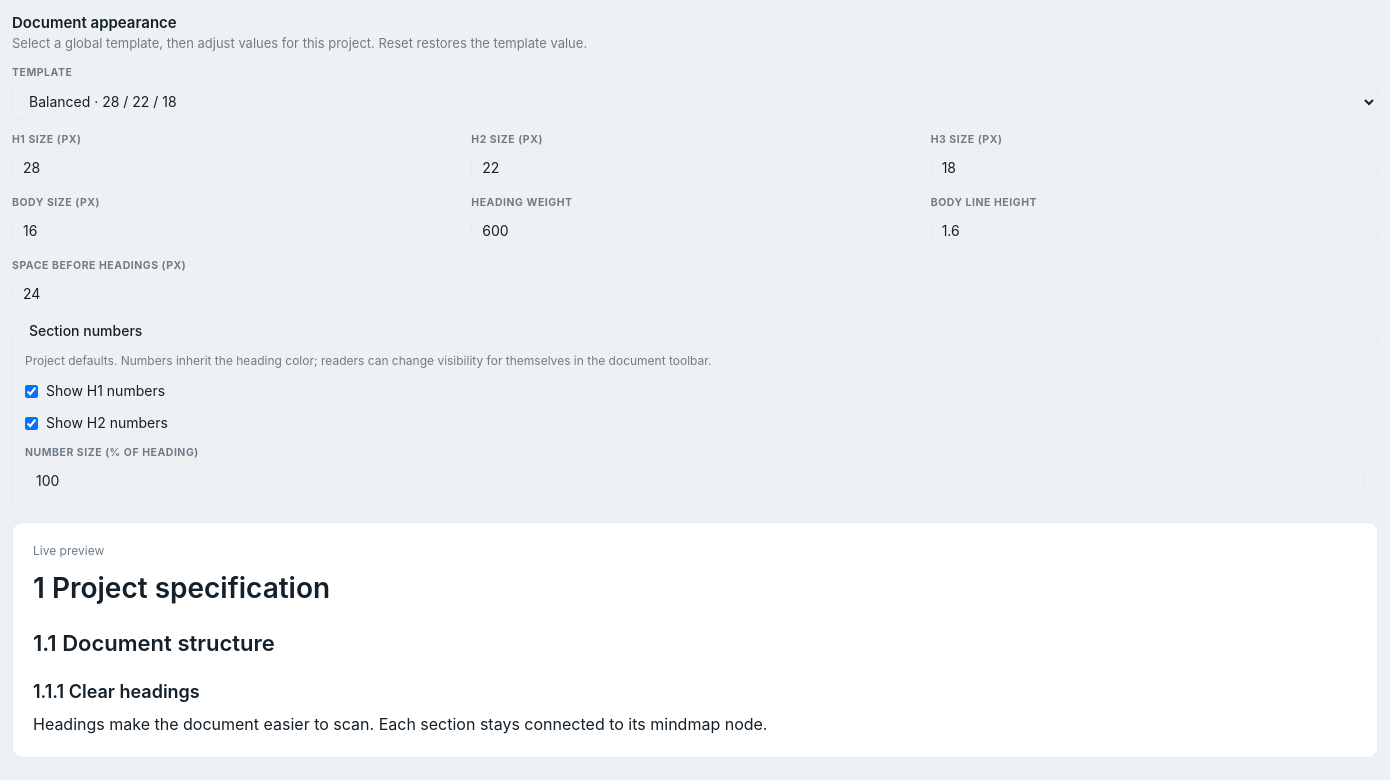
it: document appearance controls › resets a cleared field to the template immediately
Clear the number field labelled "Body size (px)" at {"x": 236, "y": 230}, box [12,214,459,246]
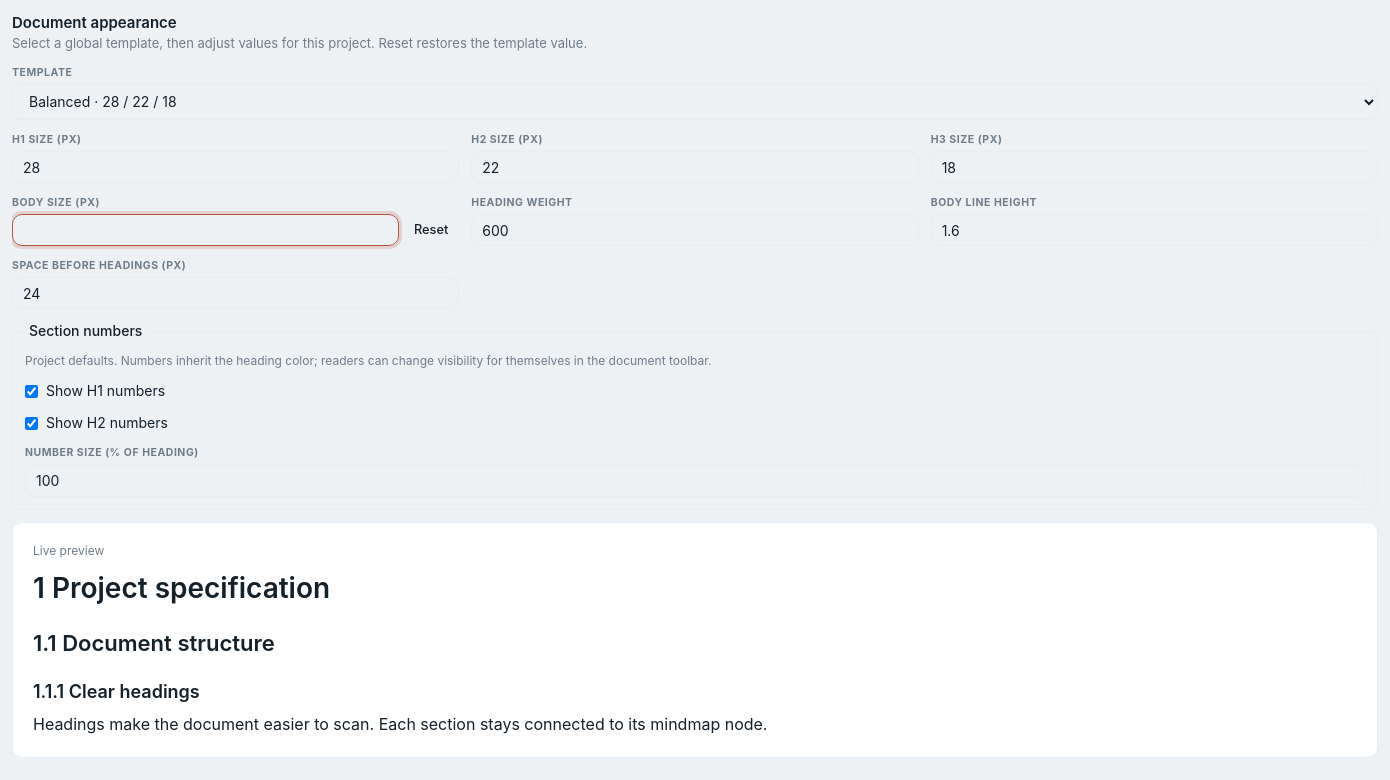
Click the button with aria-label "Reset: Body size (px)" at {"x": 431, "y": 230}, box [403,216,459,244]
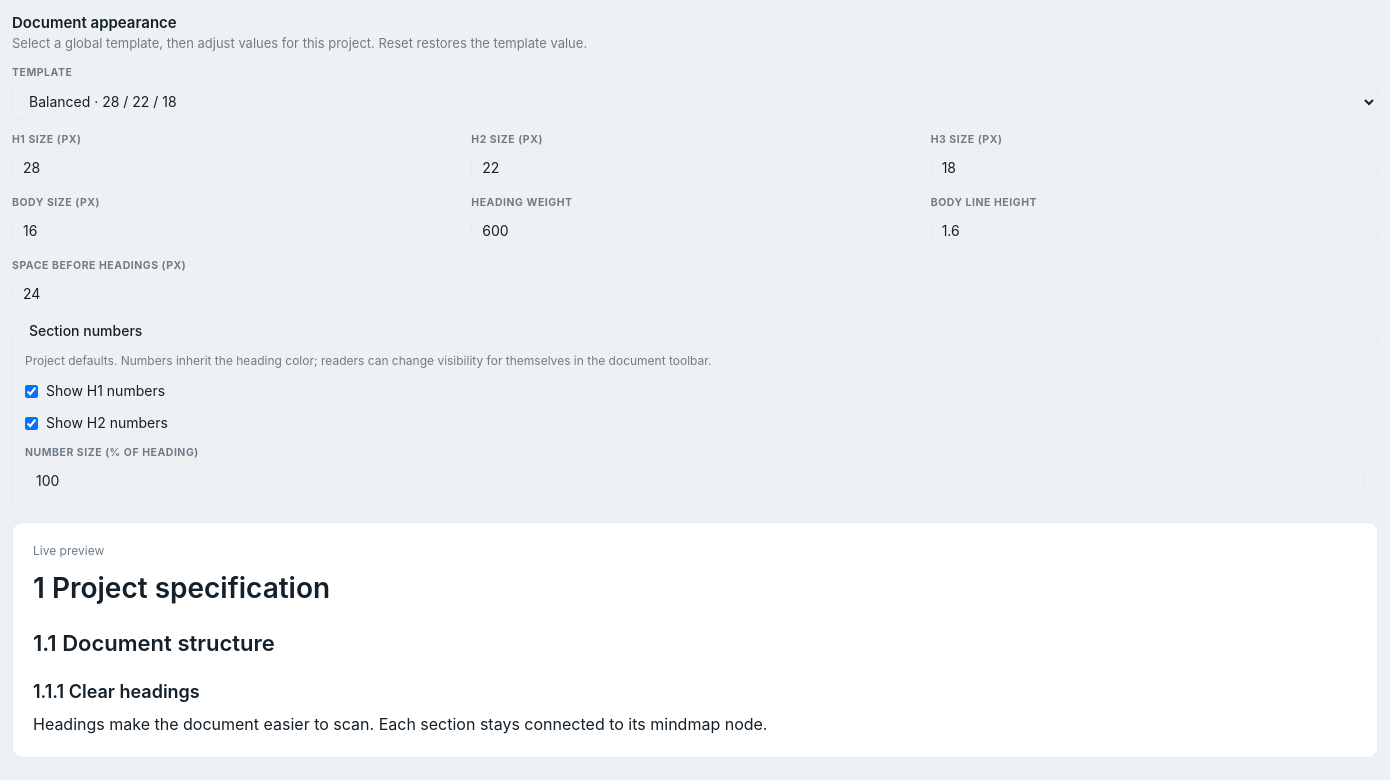
Expected: the number field labelled "Body size (px)" holds "16", [12,214,459,246]
